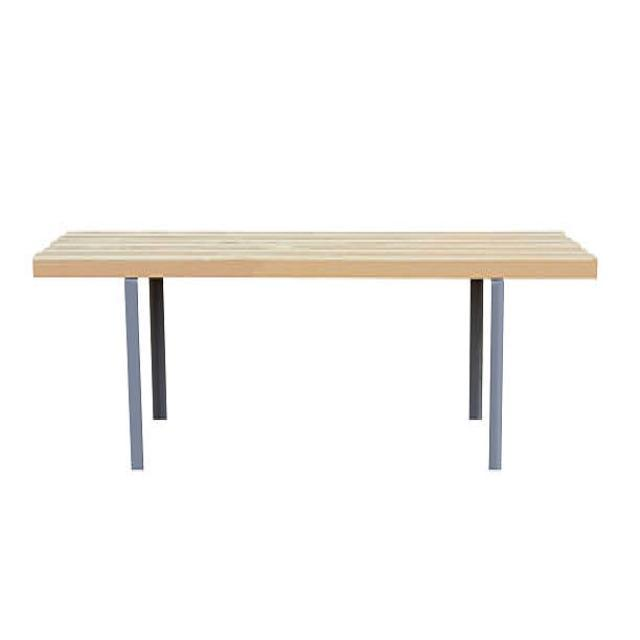table: (31, 228, 597, 471)
